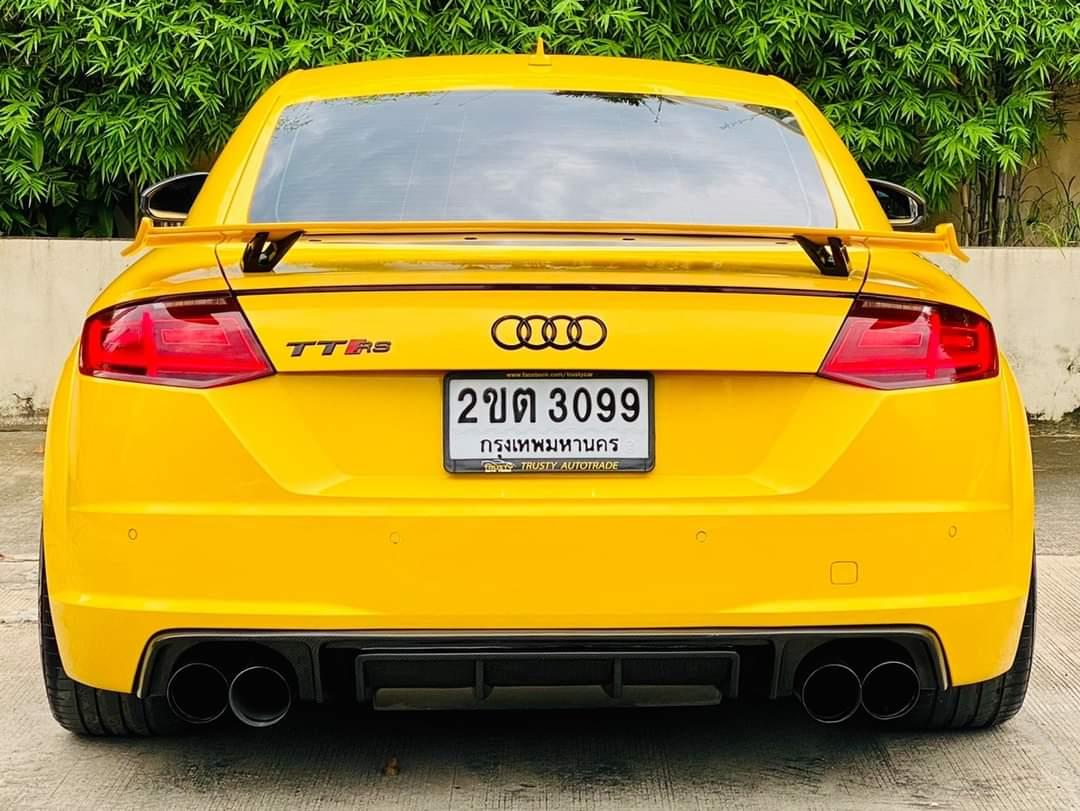license-plate: (440, 366, 658, 474)
